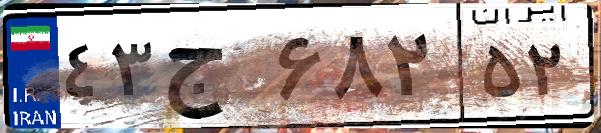2: (385, 28, 445, 110), (525, 38, 570, 115)
3: (110, 28, 158, 98)
4: (57, 26, 110, 100)
5: (475, 38, 525, 113)
6: (270, 28, 330, 110)
8: (330, 28, 385, 110)
ج: (158, 20, 270, 120)
